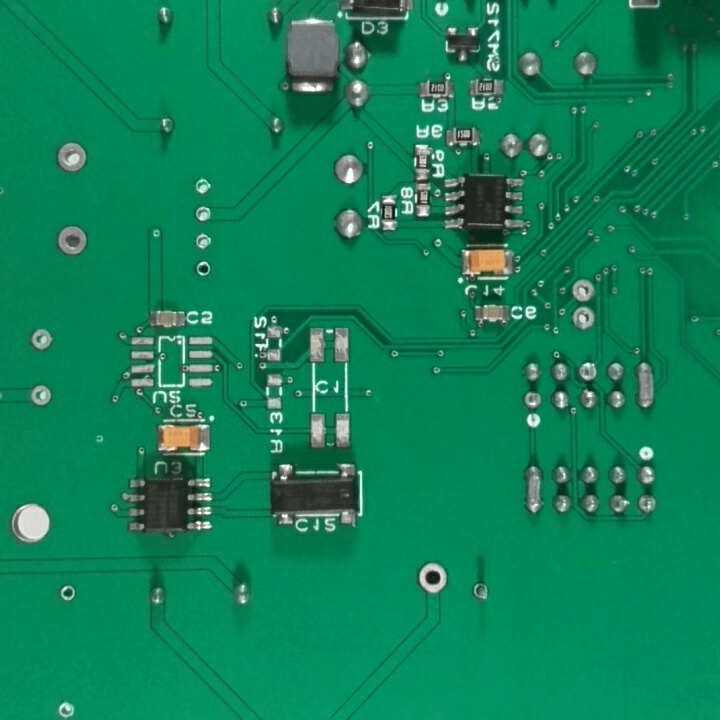F: (51, 137, 90, 177), (412, 559, 452, 597), (55, 219, 90, 260), (567, 304, 599, 336), (23, 324, 55, 355), (567, 274, 598, 302), (519, 386, 544, 414), (467, 577, 491, 606), (577, 355, 600, 385), (190, 201, 216, 226), (29, 380, 53, 407), (636, 488, 658, 517), (191, 230, 216, 254), (53, 583, 80, 604), (193, 177, 216, 200), (54, 699, 77, 720), (193, 260, 213, 279)
P: (633, 357, 659, 422), (519, 459, 545, 522)
